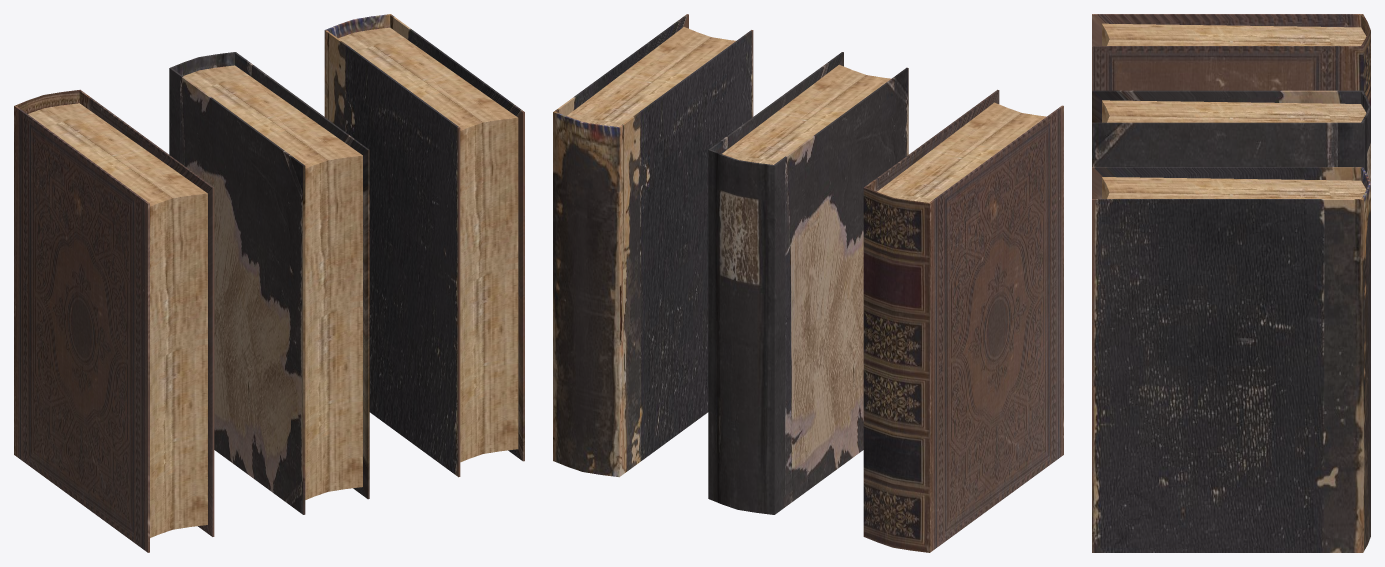
Rendered from books.FBX.
3 views of the same model, side by side, from view 1: azimuth 30°, elevation 25°; view 2: azimuth 150°, elevation 25°; view 3: azimuth 270°, elevation 25° (orthographic).
Parts seen in each view (by area): view 1: book3, book2, book1; view 2: book3, book2, book1; view 3: book1, book2, book3.
Part boxes in pixels (<box>): book3: <box>14,89,214,552</box>; book2: <box>169,52,369,514</box>; book1: <box>324,14,524,477</box>; book3: <box>863,89,1063,552</box>; book2: <box>708,52,908,514</box>; book1: <box>553,14,753,477</box>; book1: <box>1092,167,1370,552</box>; book2: <box>1092,90,1370,182</box>; book3: <box>1092,14,1370,106</box>.
Size of the model in its own units: 146 by 129 by 92.38.
